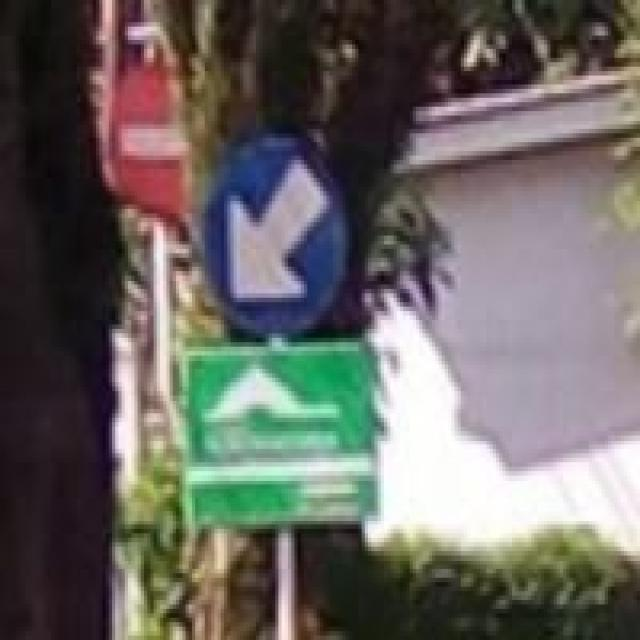traffic sign: (202, 143, 346, 334)
